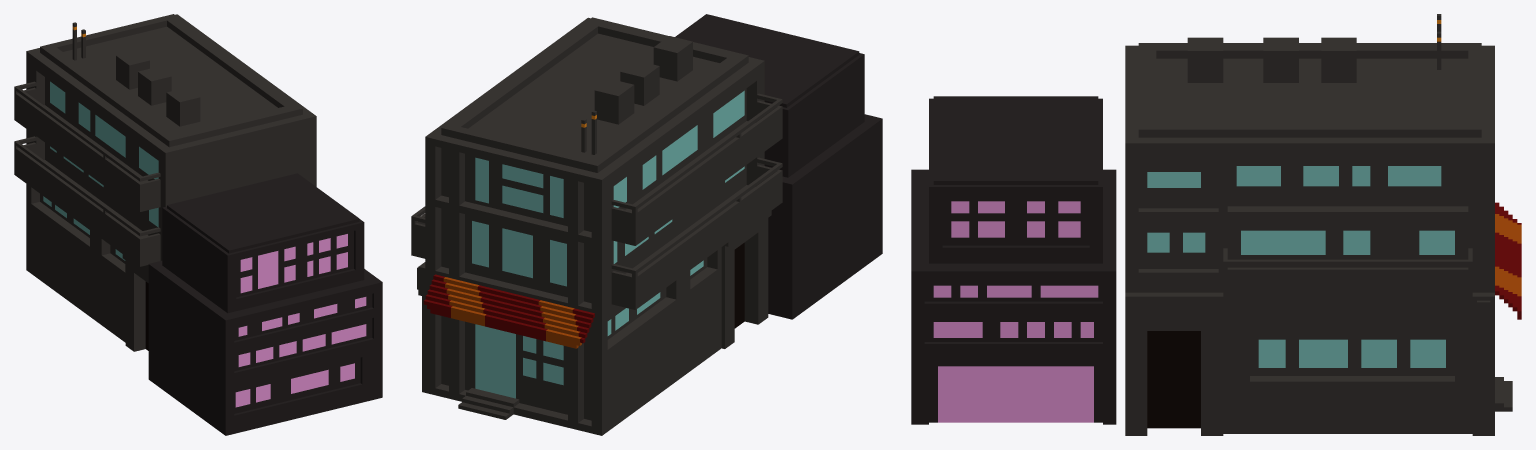
The model's file is SideBuilding2.obj.
3 renders of one model, left to right at view 1: azimuth 30°, elevation 25°; view 2: azimuth 150°, elevation 25°; view 3: azimuth 270°, elevation 25°, orthographic. The views are drawn at different scales.
Bounding box in the file's own units: 6.6 × 8.4 × 13.7.
1 material, 1 textured.
